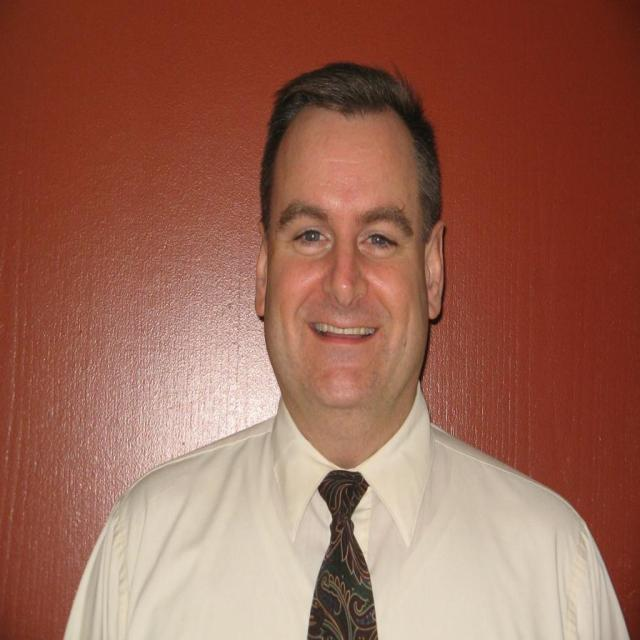Face: (260, 96, 431, 450)
